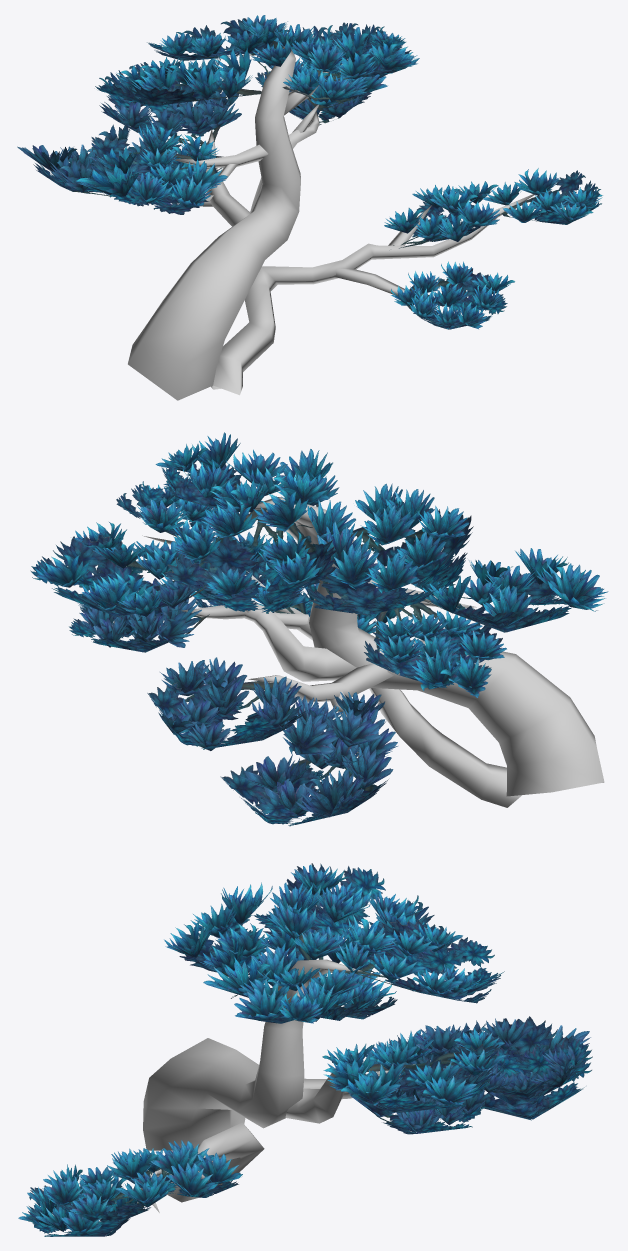
File: fb_qingqs_zw_01.FBX
The picture shows the model from 3 angles, top to bottom: view 1: azimuth 30°, elevation 25°; view 2: azimuth 150°, elevation 25°; view 3: azimuth 270°, elevation 25°; orthographic projection. The views are drawn at different scales.
Visible parts, largest first — view 1: fb_qingqs_zw_01_a, fb_qingqs_zw_01_b; view 2: fb_qingqs_zw_01_a, fb_qingqs_zw_01_b; view 3: fb_qingqs_zw_01_a, fb_qingqs_zw_01_b.
Boxes of the visible parts, x1=… form: fb_qingqs_zw_01_a: x1=17, y1=15, x2=602, y2=329; fb_qingqs_zw_01_b: x1=128, y1=46, x2=534, y2=400; fb_qingqs_zw_01_a: x1=30, y1=432, x2=608, y2=826; fb_qingqs_zw_01_b: x1=142, y1=497, x2=604, y2=807; fb_qingqs_zw_01_a: x1=18, y1=863, x2=592, y2=1236; fb_qingqs_zw_01_b: x1=115, y1=959, x2=430, y2=1212.
Bounding box in the file's own units: 1297 × 759 × 1260.
